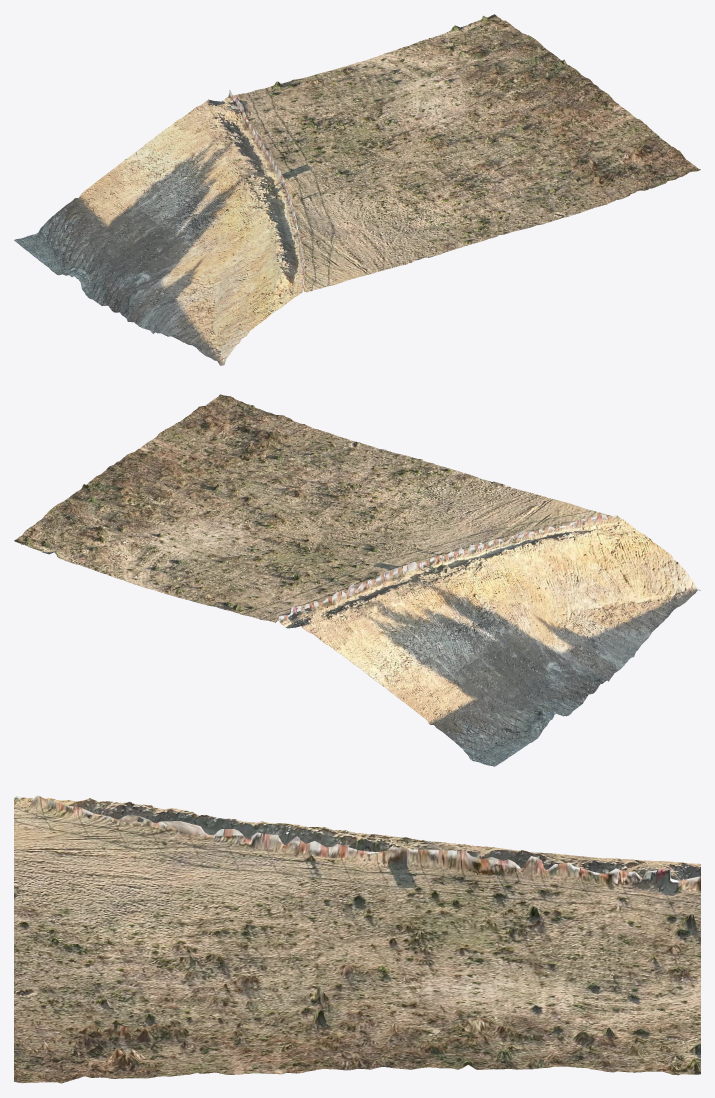
Rendered from BlockBBBY_L20_47.glb.
3 views of the same model, one above another, from view 1: azimuth 30°, elevation 25°; view 2: azimuth 150°, elevation 25°; view 3: azimuth 270°, elevation 25° (orthographic). The views are drawn at different scales.
Parts seen in each view (by area): view 1: rtc; view 2: rtc; view 3: rtc.
Boxes of the visible parts, x1,y1,x2,y2 form: rtc: (14, 14, 700, 365); rtc: (14, 394, 700, 766); rtc: (14, 795, 700, 1083).
Bounding box in the file's own units: 53.73 × 12.63 × 39.94.
6 materials, 6 textured.
